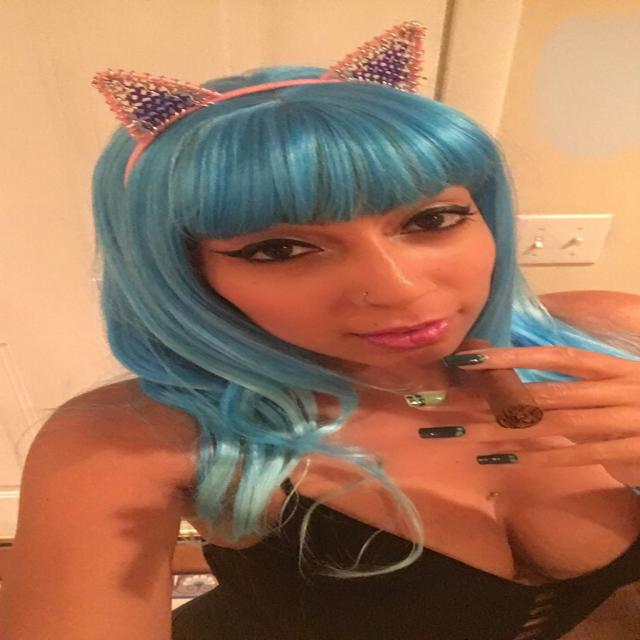smoking: (118, 48, 553, 491)
